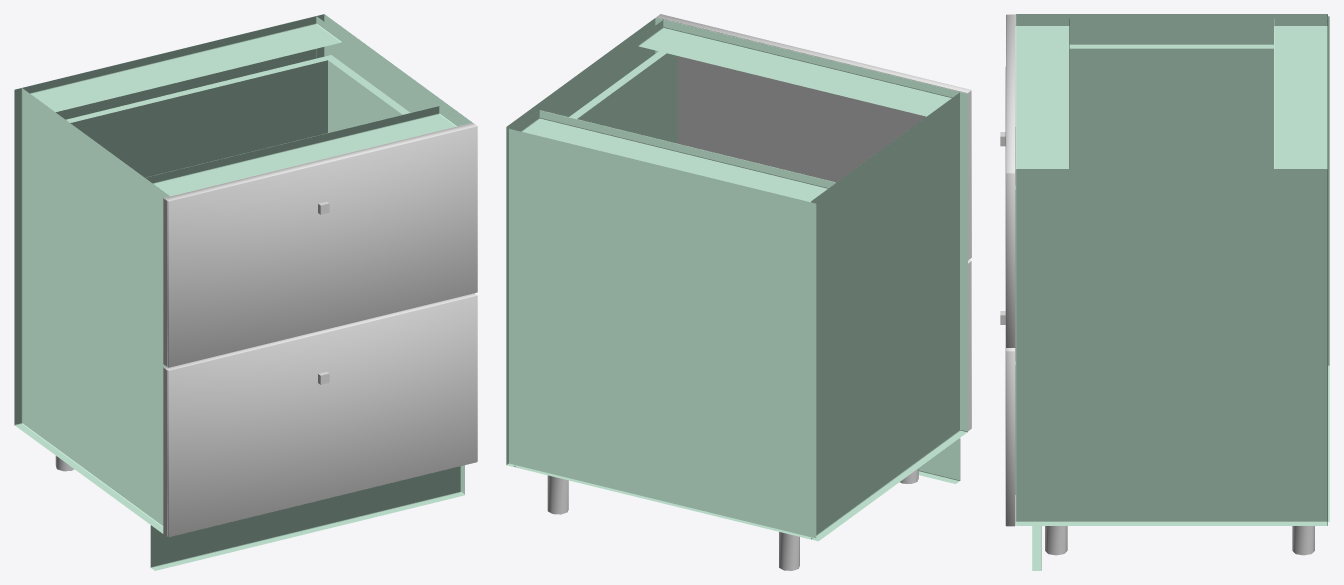
The model's file is M_2YNSD_9.glb.
3 views of the same model, side by side, from view 1: azimuth 30°, elevation 25°; view 2: azimuth 150°, elevation 25°; view 3: azimuth 270°, elevation 25° (orthographic). The views are drawn at different scales.
Parts seen in each view (by area): view 1: M_2YNSD_9, M_2YNSD_1_F.014, M_2YNSD_1_F.015, M_2YNSD_9_F_9, M_2YNSD_1_F_C.015, M_2YNSD_1_F_C.014; view 2: M_2YNSD_9, M_2YNSD_1_F_A.014, M_2YNSD_1_F_B.014, M_2YNSD_9_F_9, Legs.009, M_2YNSD_1_F.014, M_2YNSD_1_F_C.014, M_2YNSD_1_F_C.015; view 3: M_2YNSD_9, M_2YNSD_9_F_9, M_2YNSD_1_F.014, M_2YNSD_1_F.015, Legs.009.
Boxes of the visible parts, bbox=[...] form: M_2YNSD_9: bbox=[14, 14, 472, 570]; M_2YNSD_1_F.014: bbox=[165, 123, 477, 367]; M_2YNSD_1_F.015: bbox=[165, 293, 477, 537]; M_2YNSD_9_F_9: bbox=[66, 55, 410, 177]; M_2YNSD_1_F_C.015: bbox=[163, 368, 167, 535]; M_2YNSD_1_F_C.014: bbox=[163, 198, 167, 366]; M_2YNSD_9: bbox=[506, 17, 967, 541]; M_2YNSD_1_F_A.014: bbox=[656, 17, 969, 176]; M_2YNSD_1_F_B.014: bbox=[812, 56, 970, 260]; M_2YNSD_9_F_9: bbox=[569, 51, 677, 143]; Legs.009: bbox=[547, 468, 918, 570]; M_2YNSD_1_F.014: bbox=[657, 14, 971, 257]; M_2YNSD_1_F_C.014: bbox=[685, 91, 971, 259]; M_2YNSD_1_F_C.015: bbox=[968, 262, 971, 430]; M_2YNSD_9: bbox=[1015, 14, 1329, 570]; M_2YNSD_9_F_9: bbox=[1015, 44, 1273, 494]; M_2YNSD_1_F.014: bbox=[1005, 14, 1015, 347]; M_2YNSD_1_F.015: bbox=[1005, 348, 1015, 526]; Legs.009: bbox=[1045, 526, 1314, 555].
Size of the model in its own units: 7.37 by 8.6 by 6.44.
